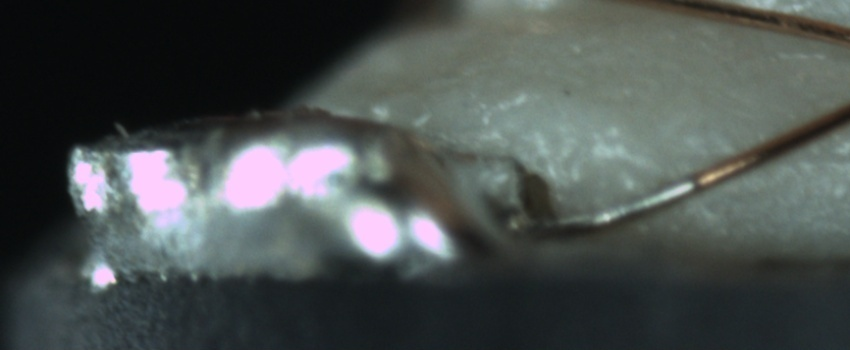DL: (681, 124, 849, 188)
TS: (525, 176, 701, 237)
